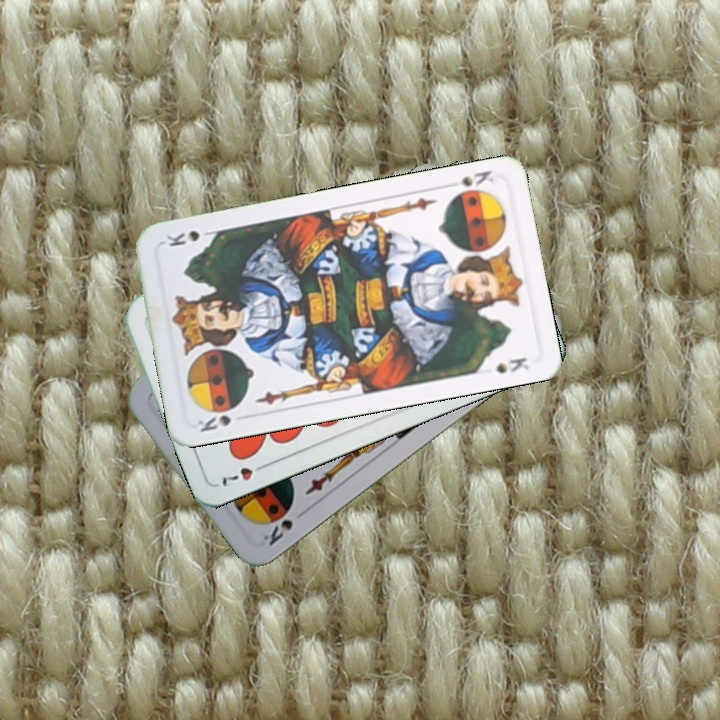H7: (218, 459, 272, 489)
SK: (256, 506, 309, 549), (192, 402, 241, 435), (442, 165, 496, 191)
